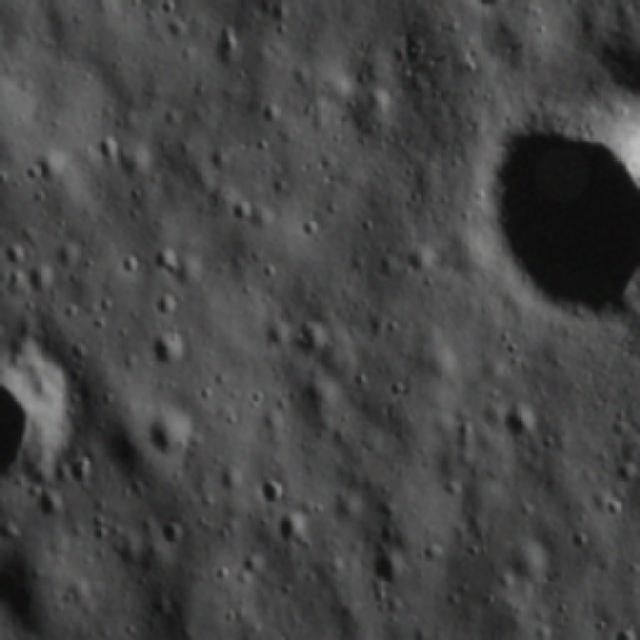crater: (447, 74, 640, 328), (0, 336, 80, 502), (145, 410, 209, 472), (489, 382, 548, 446), (296, 322, 333, 360), (601, 618, 640, 639)
